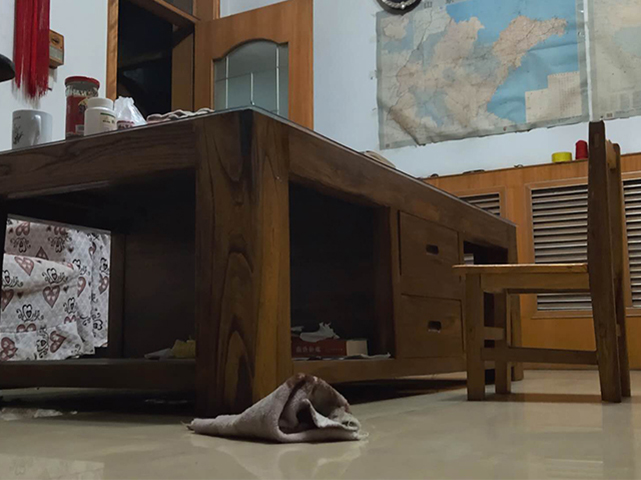stool: (449, 118, 635, 406)
table: (1, 102, 521, 423)
